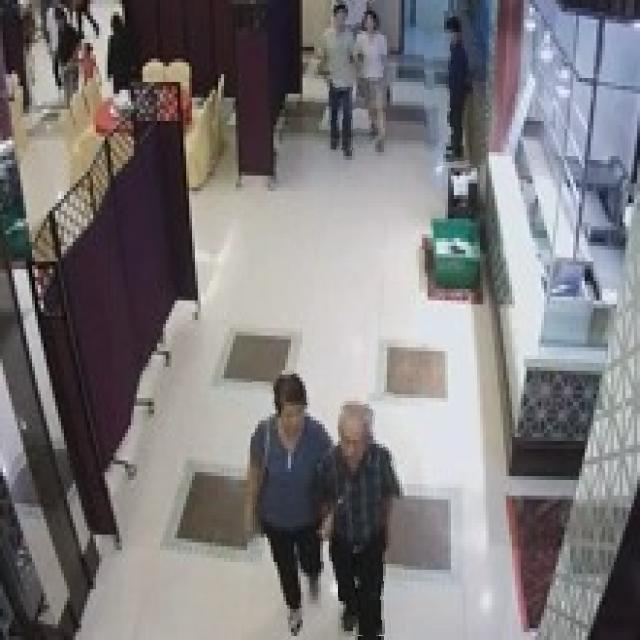Normal: (252, 369, 338, 640), (331, 393, 403, 636), (424, 8, 485, 167), (314, 0, 356, 150), (353, 2, 385, 140)
